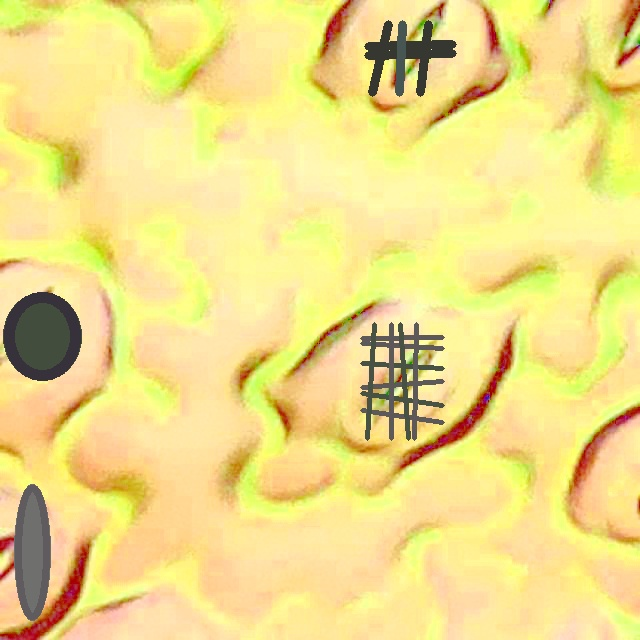open: (361, 322, 444, 439), (364, 20, 455, 96), (3, 292, 81, 380), (14, 485, 49, 620)
